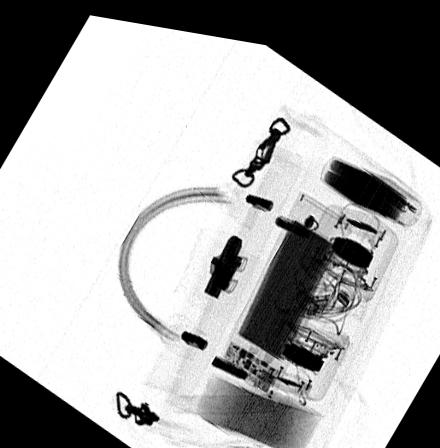Powerbank: (214, 179, 348, 391), (319, 142, 422, 213)
